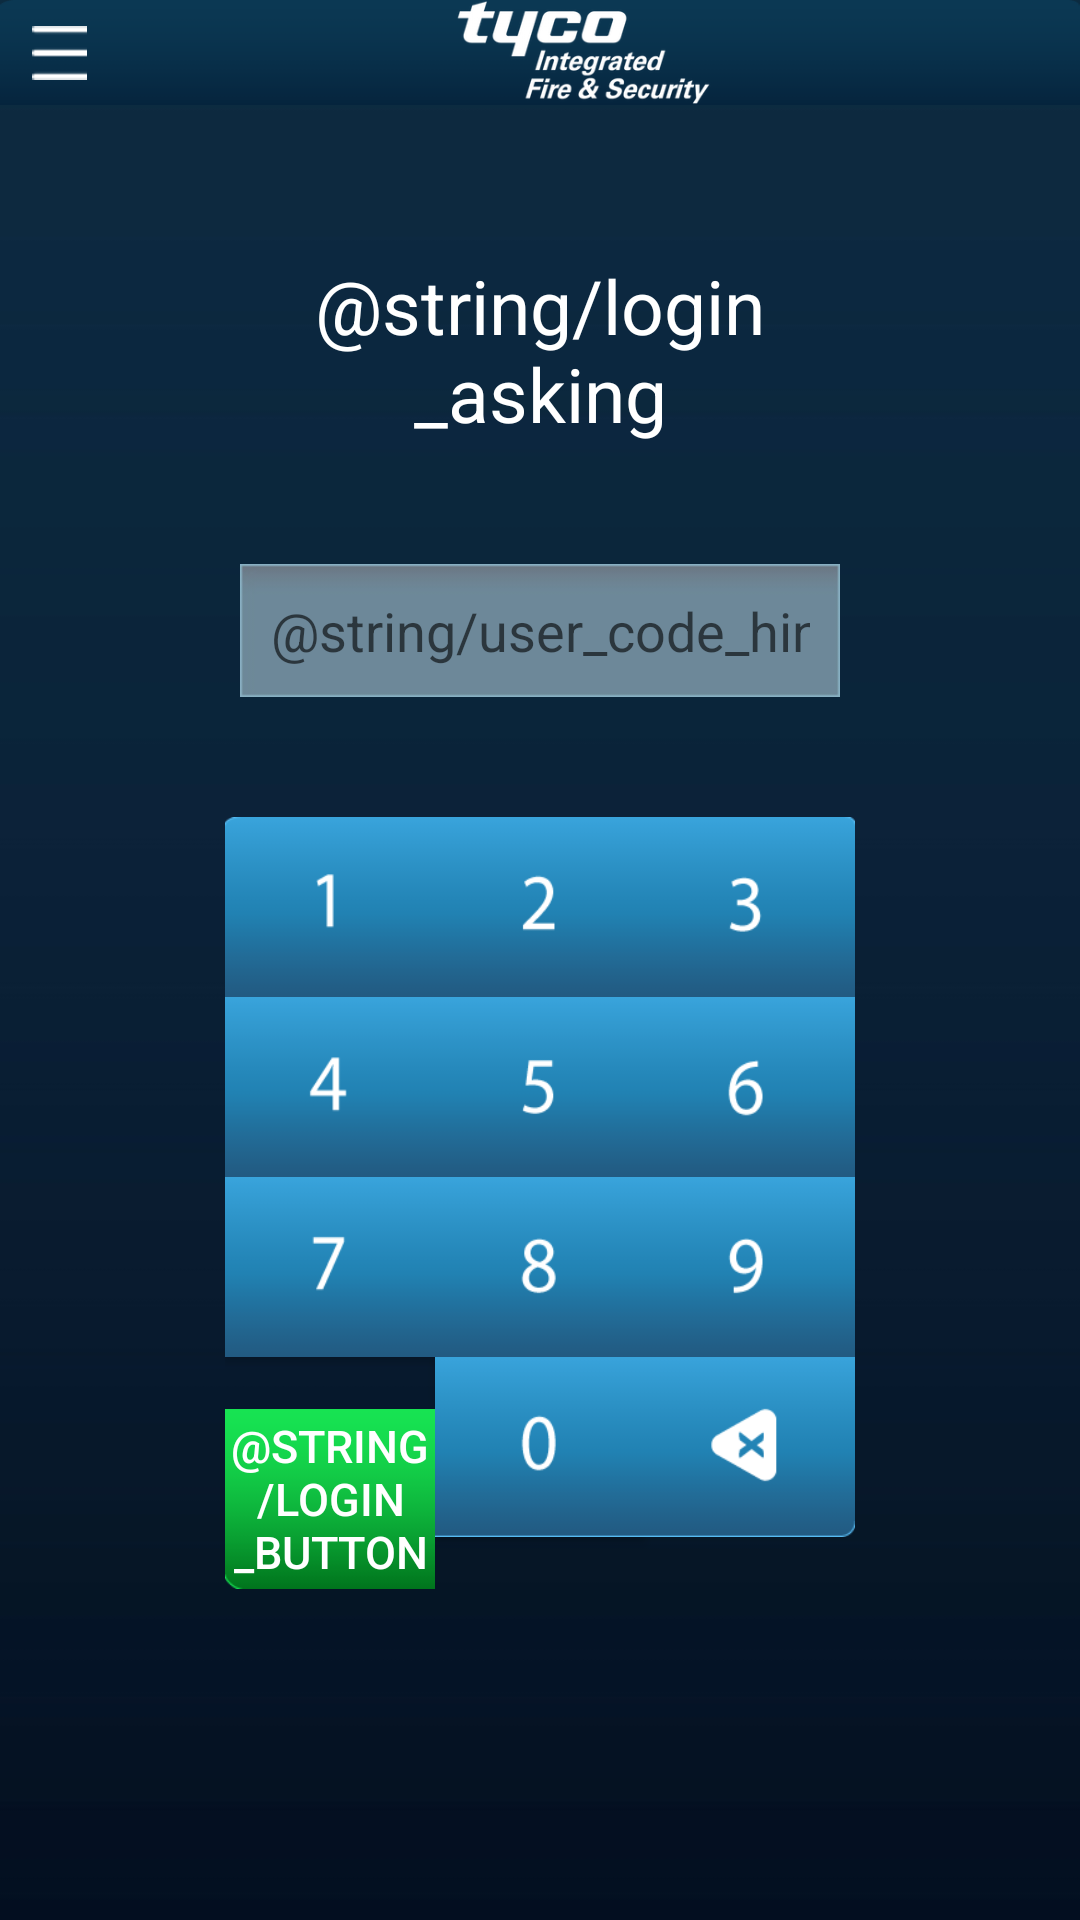

Screen size 1080×1920. Icon name, then its center in pixels as (x=x, y=y):
backspace: (x=750, y=1447)
menu: (x=43, y=40)
